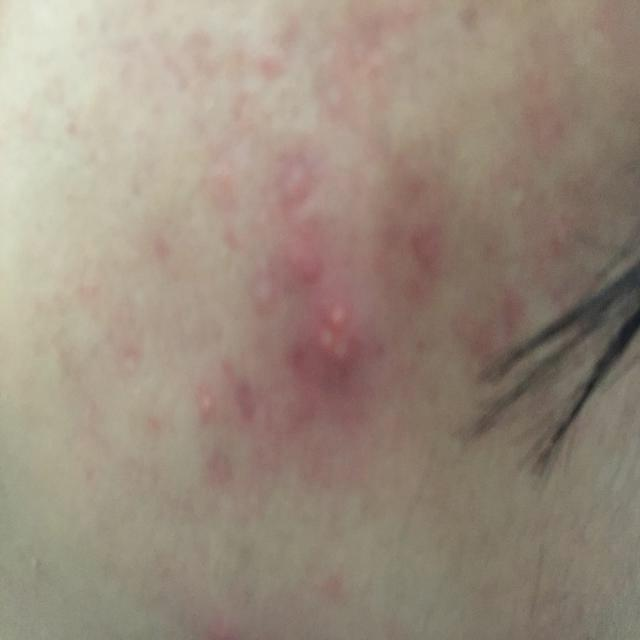Pimples: (326, 295, 360, 328), (329, 338, 357, 371), (200, 394, 218, 422)
